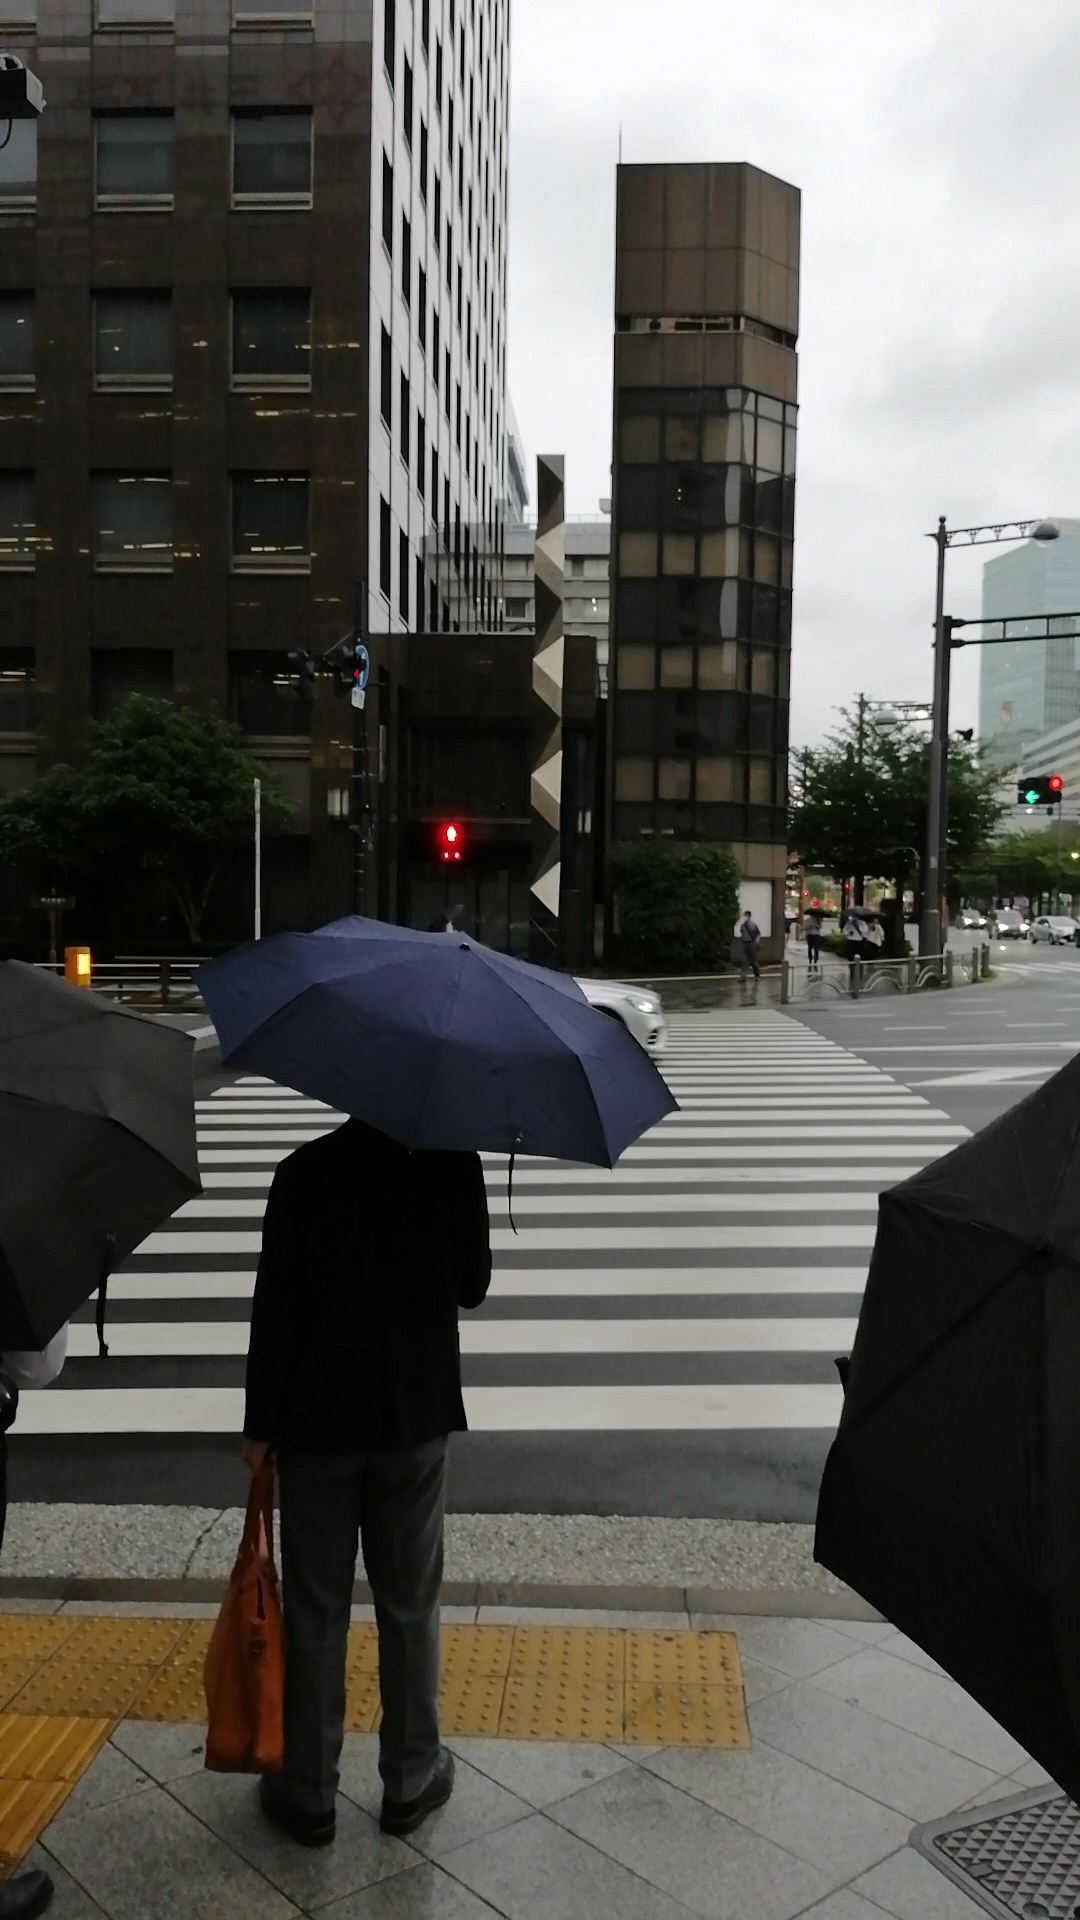red: (436, 818, 465, 870)
